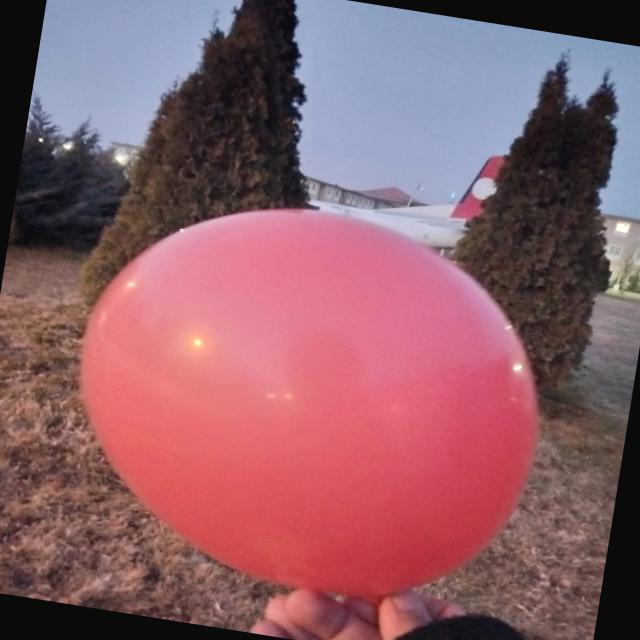balloon: (82, 209, 538, 598)
